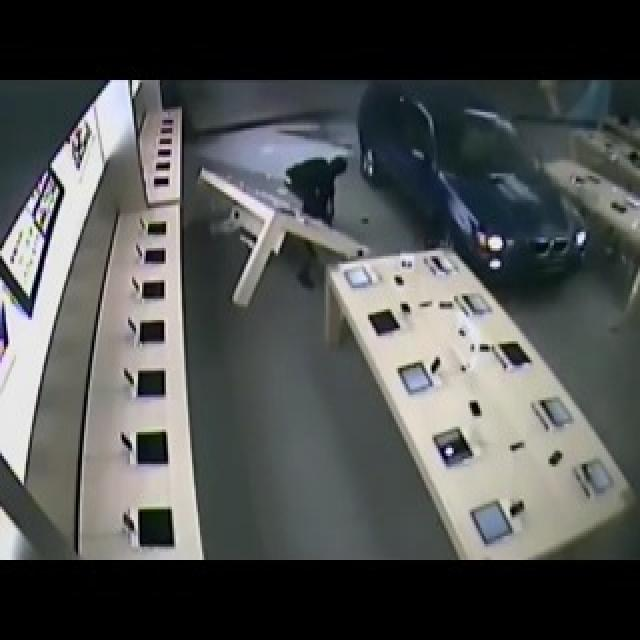thief: (286, 148, 342, 242)
